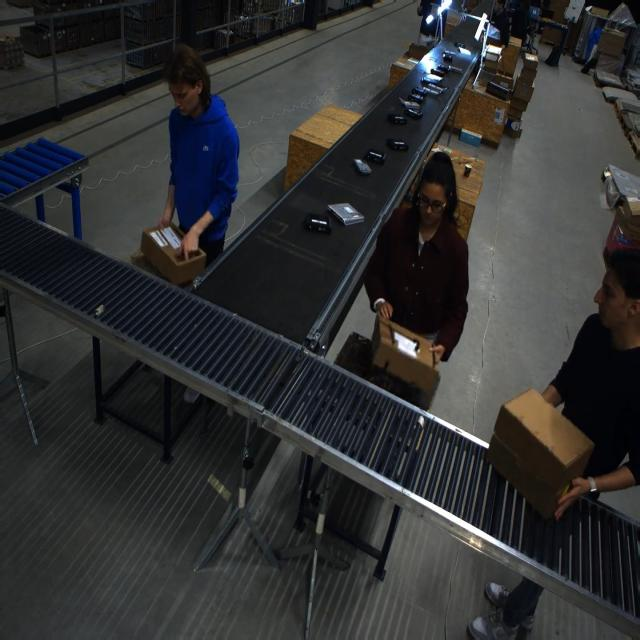box: (487, 386, 594, 517), (368, 316, 437, 398), (140, 221, 206, 285), (613, 203, 639, 246), (597, 28, 626, 56), (509, 77, 535, 105), (517, 55, 537, 86), (540, 22, 564, 46), (407, 41, 429, 60)
product: (327, 202, 362, 226), (303, 213, 331, 235), (351, 158, 372, 177), (422, 81, 448, 95), (364, 148, 386, 164), (398, 97, 420, 111), (421, 73, 444, 85), (386, 138, 407, 151), (386, 114, 407, 125), (404, 107, 423, 119), (410, 87, 427, 99), (445, 64, 463, 74), (434, 64, 451, 74), (408, 93, 423, 104), (454, 41, 467, 50), (442, 52, 453, 62)
